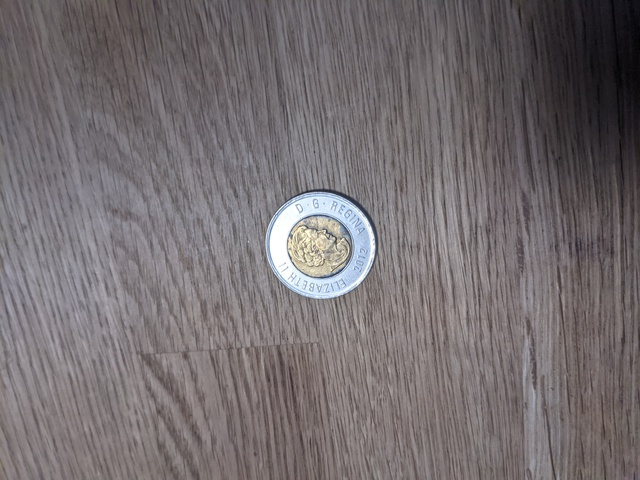twonie: (258, 187, 387, 303)
